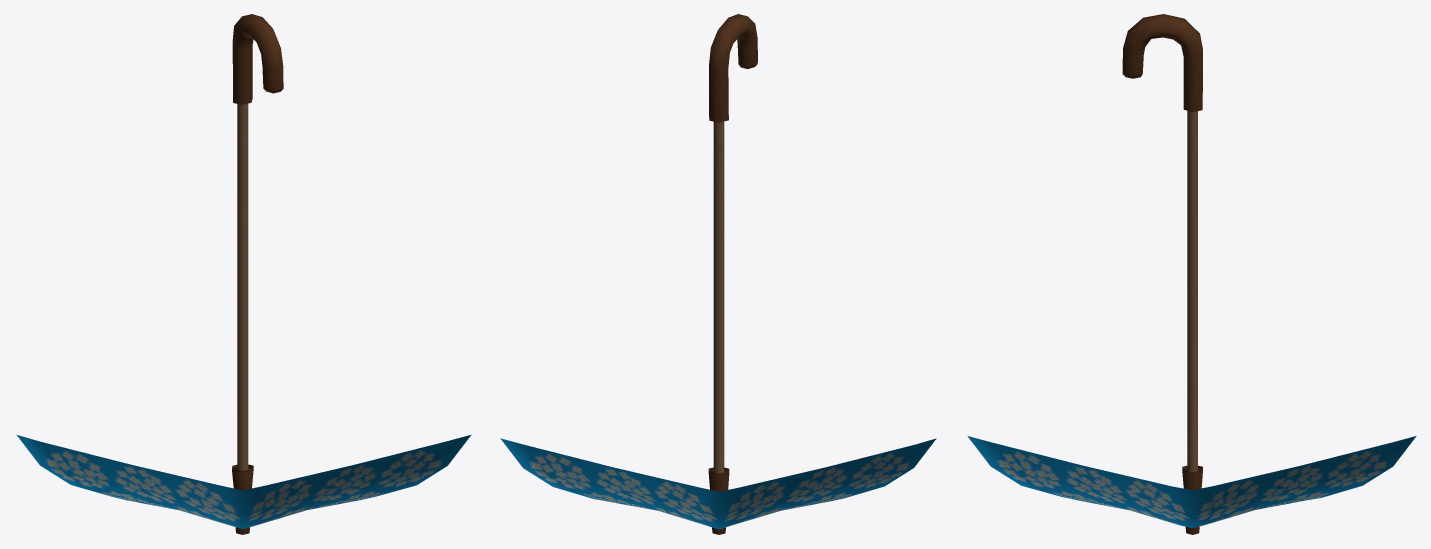
The model's file is UmbrellaHydrangea0.glb.
3 renders of one model, left to right at view 1: azimuth 30°, elevation 25°; view 2: azimuth 150°, elevation 25°; view 3: azimuth 270°, elevation 25°, orthographic. The views are drawn at different scales.
Visible parts, largest first — view 1: Pole__mUmbrella; view 2: Pole__mUmbrella; view 3: Pole__mUmbrella.
Part boxes in pixels (x1,y1,x2,y2): Pole__mUmbrella: (16,14,471,534); Pole__mUmbrella: (500,14,936,534); Pole__mUmbrella: (967,14,1416,534).
Bounding box in the file's own units: 15.33 × 16.94 × 13.39.
1 material, 1 textured.
